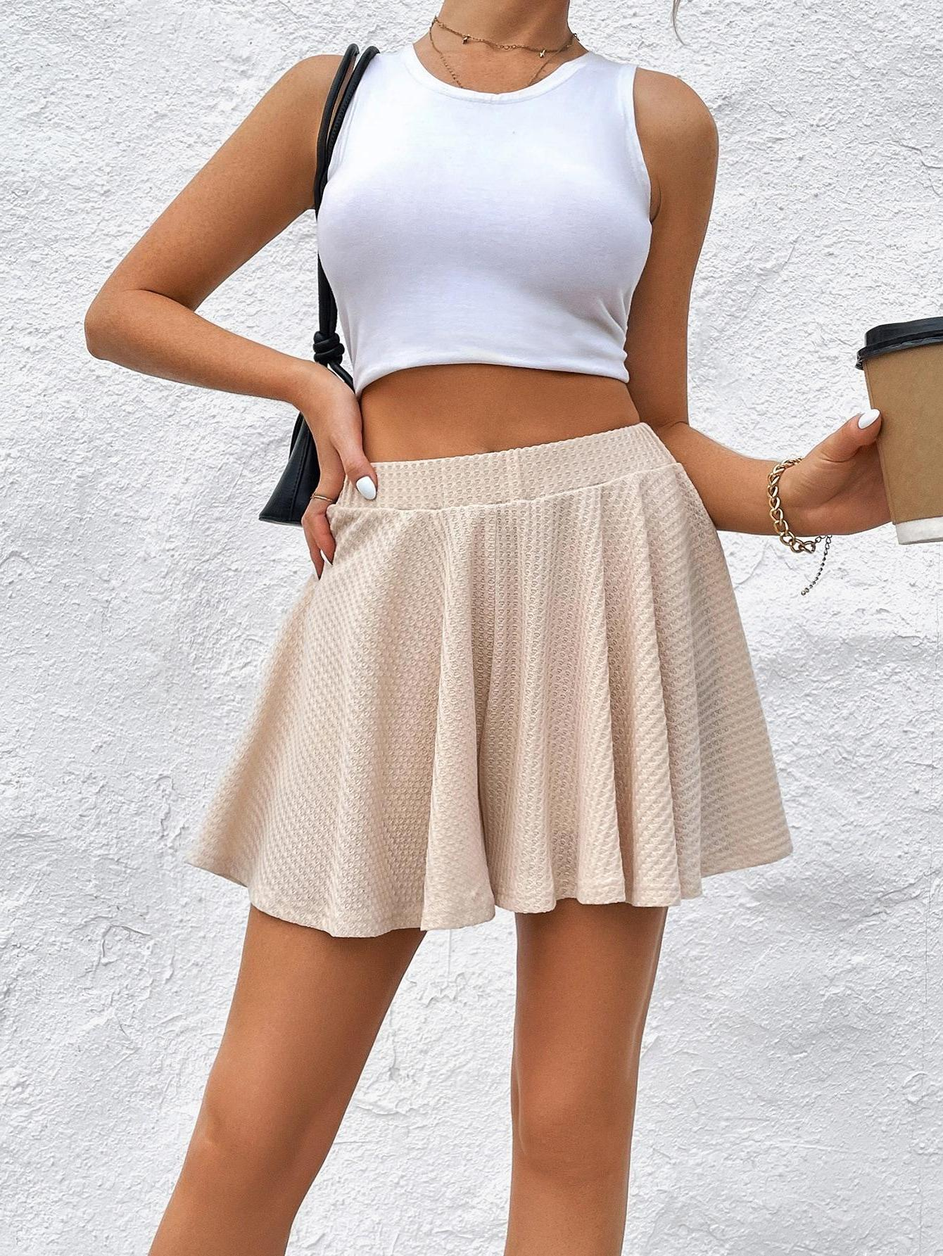skirt: (174, 414, 804, 948)
vest: (312, 36, 663, 393)
